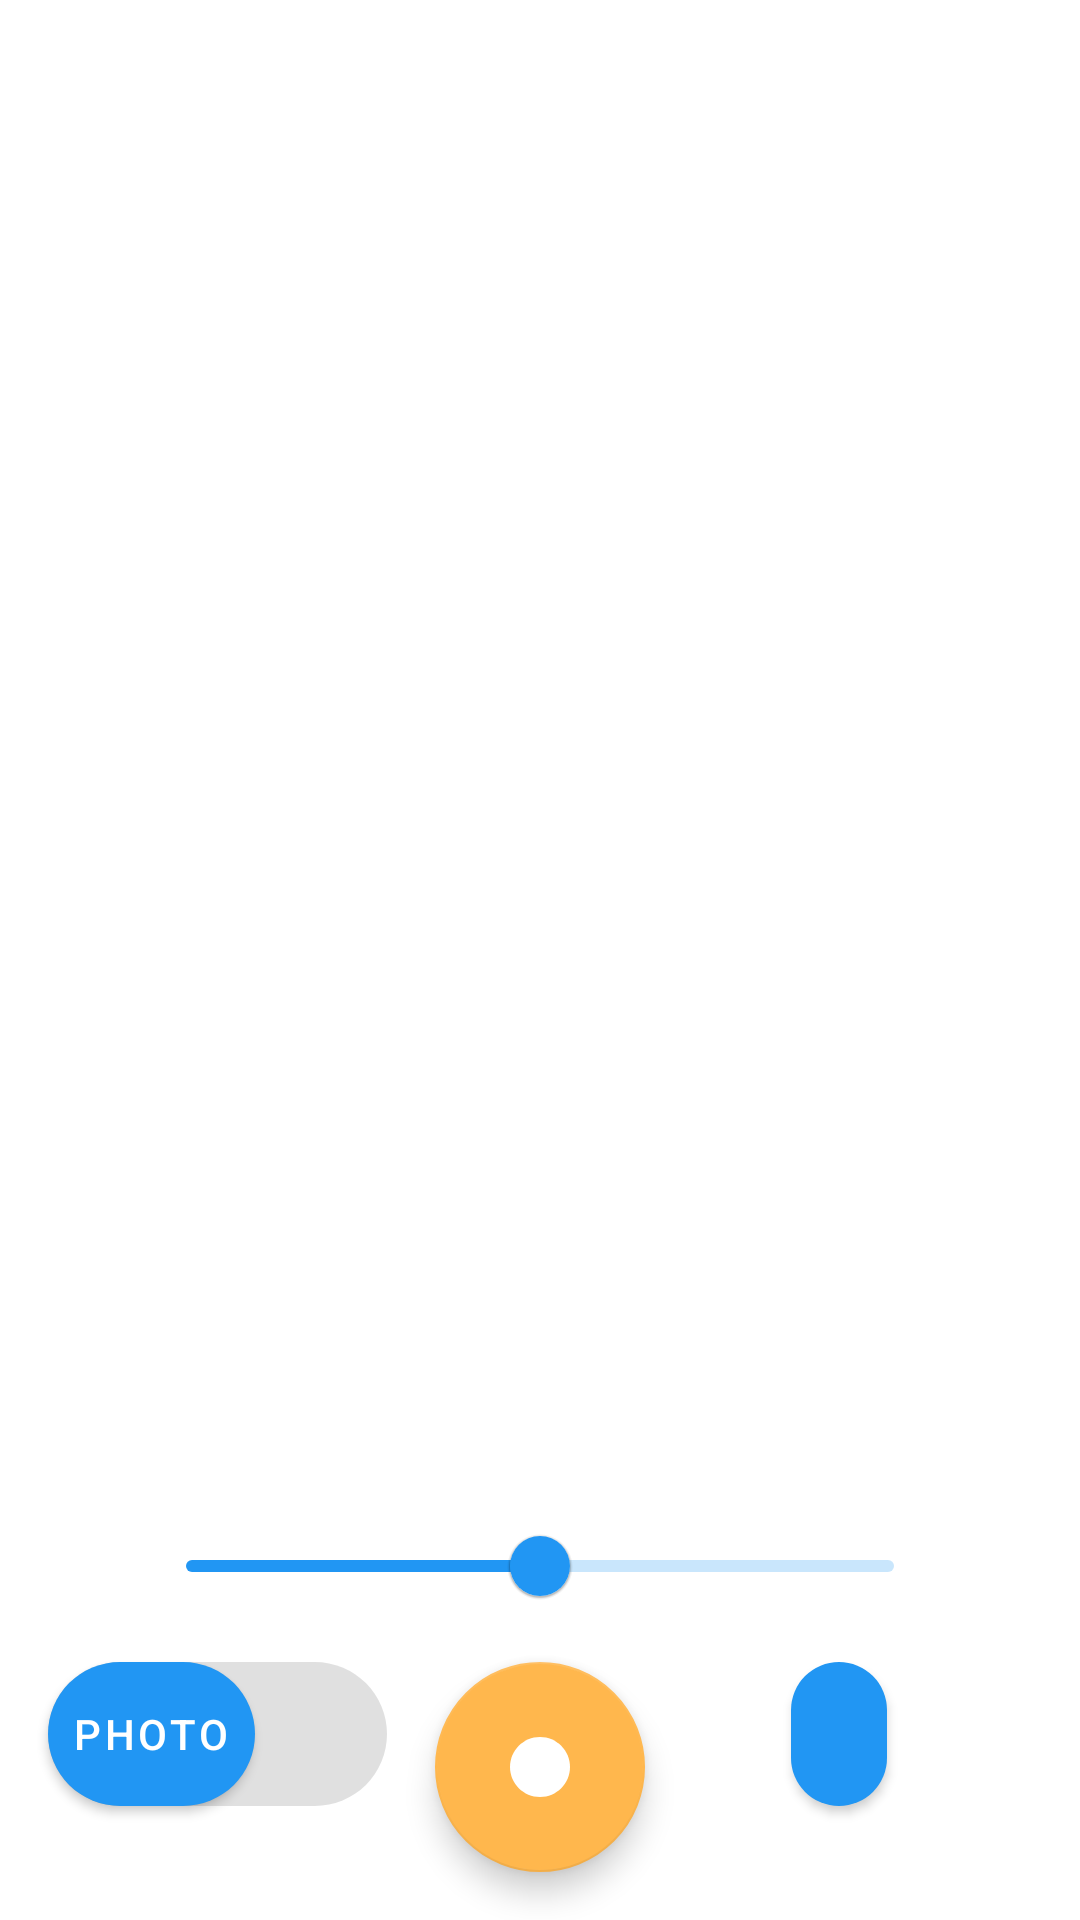

Icons on this 1080 × 1920 Android screen, each with the point to tap as point (x, y):
Take, start, or end a video: point (540, 1767)
